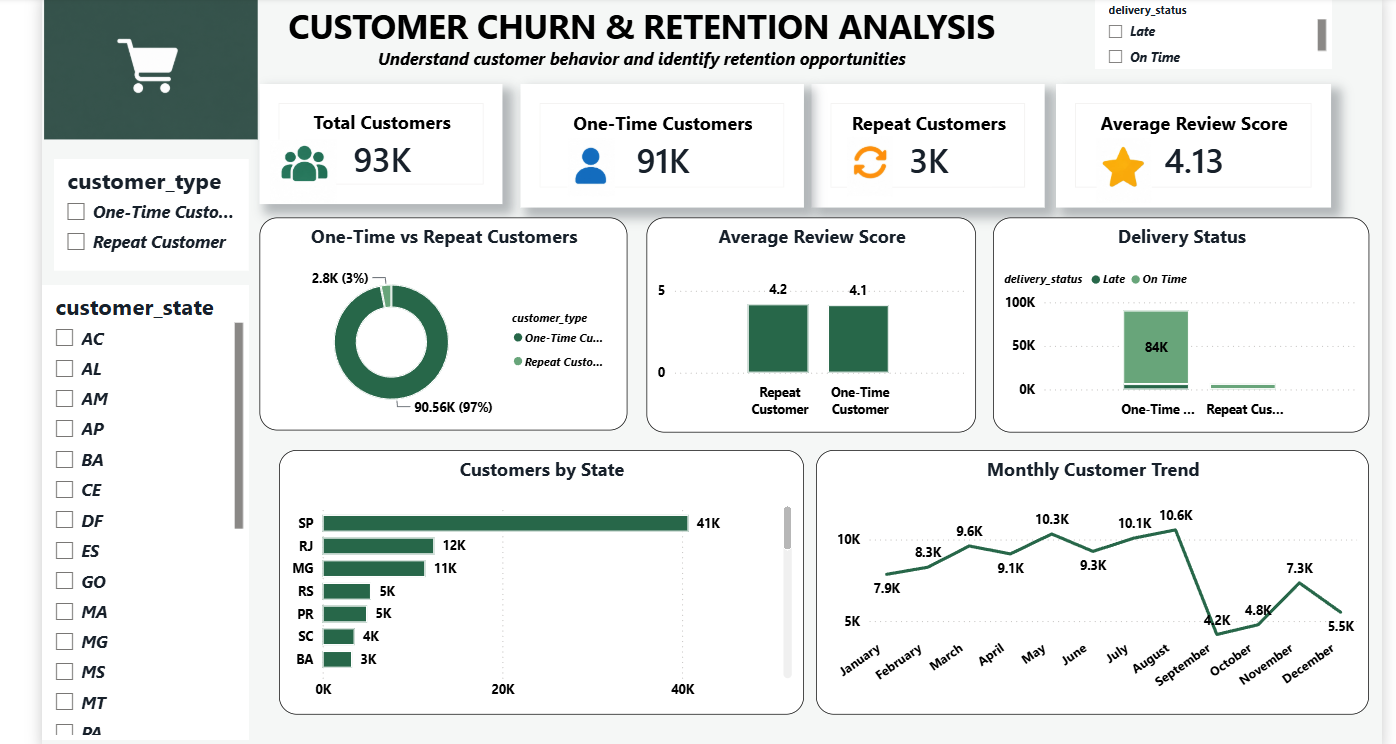

The page's visual inventory and layout, read from the dashboard file:
{"tool":"powerbi","page":{"name":"Page 1","canvas":[1280,720],"ordinal":0},"visuals":[{"type":"cardVisual","fields":{"Data":["customer_churn_analysis customer_churn.Total Customers"]},"box":[208.4,82.7,232.2,114.5],"z":0},{"type":"textbox","box":[0,0,1145.2,136.1],"z":1000},{"type":"image","box":[0,0,207.9,136.1],"z":2000},{"type":"image","box":[208.4,136.8,83.2,60.5],"z":2001},{"type":"cardVisual","fields":{"Data":["customer_churn_analysis customer_churn.Repeat Customers"]},"box":[734.9,82.7,222.7,117.7],"z":2003},{"type":"cardVisual","fields":{"Data":["customer_churn_analysis customer_churn.One-Time Customers"]},"box":[456.5,82.7,270.4,117.7],"z":2004},{"type":"cardVisual","fields":{"Data":["customer_churn_analysis customer_churn.Average Review Score"]},"box":[968.7,82.7,262.5,117.7],"z":2005},{"type":"image","box":[998.9,135.2,70,62],"z":2006},{"type":"image","box":[488.3,135.2,71.6,55.7],"z":2007},{"type":"image","box":[752.4,133.6,76.3,57.3],"z":2008},{"type":"donutChart","title":"One-Time vs Repeat Customers","fields":{"Y":["Count(customer_churn_analysis customer_churn.customer_unique_id)"],"Category":["customer_churn_analysis customer_churn.customer_type"]},"box":[208.4,210,351.5,203.6],"z":2009},{"type":"columnChart","title":"Average Review Score","fields":{"Category":["customer_churn_analysis customer_churn.customer_type"],"Y":["customer_churn_analysis customer_churn.Average Review Score"]},"box":[577.4,210,314.9,205.2],"z":2010},{"type":"columnChart","title":"Delivery Status","fields":{"Category":["customer_churn_analysis customer_churn.customer_type"],"Y":["CountNonNull(customer_churn_analysis customer_churn.customer_unique_id)"],"Series":["customer_churn_analysis customer_churn.delivery_status"]},"box":[908.2,210,359.5,205.2],"z":2011},{"type":"clusteredBarChart","title":"Customers by State","fields":{"Category":["customer_churn_analysis customer_churn.customer_state"],"Y":["CountNonNull(customer_churn_analysis customer_churn.customer_unique_id)"]},"box":[225.9,432.6,501,252.9],"z":2012},{"type":"lineChart","title":"Monthly Customer Trend","fields":{"Y":["CountNonNull(customer_churn_analysis customer_churn.customer_unique_id)"],"Category":["customer_churn_analysis customer_churn.order_purchase_timestamp.Variation.Date Hierarchy.Month"]},"box":[739.6,432.6,528.1,252.9],"z":2013},{"type":"slicer","fields":{"Values":["customer_churn_analysis customer_churn.customer_state"]},"box":[0,275.2,197.2,434.2],"z":2014},{"type":"slicer","fields":{"Values":["customer_churn_analysis customer_churn.customer_type"]},"box":[11.1,154.3,186.1,106.6],"z":2015},{"type":"slicer","fields":{"Values":["customer_churn_analysis customer_churn.delivery_status"]},"box":[1005.3,0,225.9,68.4],"z":2016}]}

Visuals, with their boxes on the page's 1280x720 design canvas (x1, y1, x2, y2). These are canvas units, not pixel positions in the 1396x744 screenshot, which may show the page scaled, cropped or inside an application window:
cardVisual - customer_churn_analysis customer_churn.Total Customers: bbox=(208, 83, 441, 197)
textbox: bbox=(0, 0, 1145, 136)
image: bbox=(0, 0, 208, 136)
image: bbox=(208, 137, 292, 197)
cardVisual - customer_churn_analysis customer_churn.Repeat Customers: bbox=(735, 83, 958, 200)
cardVisual - customer_churn_analysis customer_churn.One-Time Customers: bbox=(456, 83, 727, 200)
cardVisual - customer_churn_analysis customer_churn.Average Review Score: bbox=(969, 83, 1231, 200)
image: bbox=(999, 135, 1069, 197)
image: bbox=(488, 135, 560, 191)
image: bbox=(752, 134, 829, 191)
"One-Time vs Repeat Customers" donutChart: bbox=(208, 210, 560, 414)
"Average Review Score" columnChart: bbox=(577, 210, 892, 415)
"Delivery Status" columnChart: bbox=(908, 210, 1268, 415)
"Customers by State" clusteredBarChart: bbox=(226, 433, 727, 686)
"Monthly Customer Trend" lineChart: bbox=(740, 433, 1268, 686)
slicer - customer_churn_analysis customer_churn.customer_state: bbox=(0, 275, 197, 709)
slicer - customer_churn_analysis customer_churn.customer_type: bbox=(11, 154, 197, 261)
slicer - customer_churn_analysis customer_churn.delivery_status: bbox=(1005, 0, 1231, 68)
